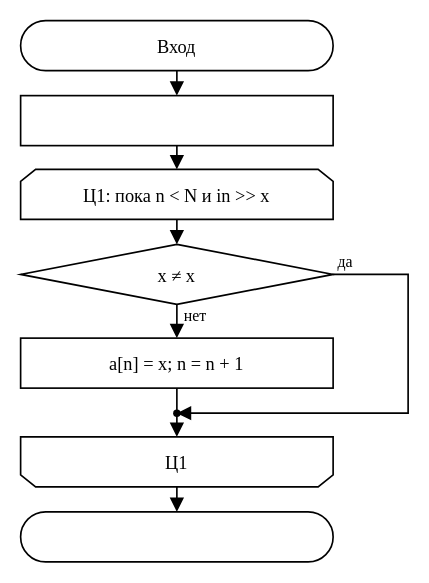
Image size: 429x583. Some labels were removed from this diagram. The centre of each missing label's shape, as x and y in pixels:
n = 0: point 176,120
Выход: n: point 176,536
